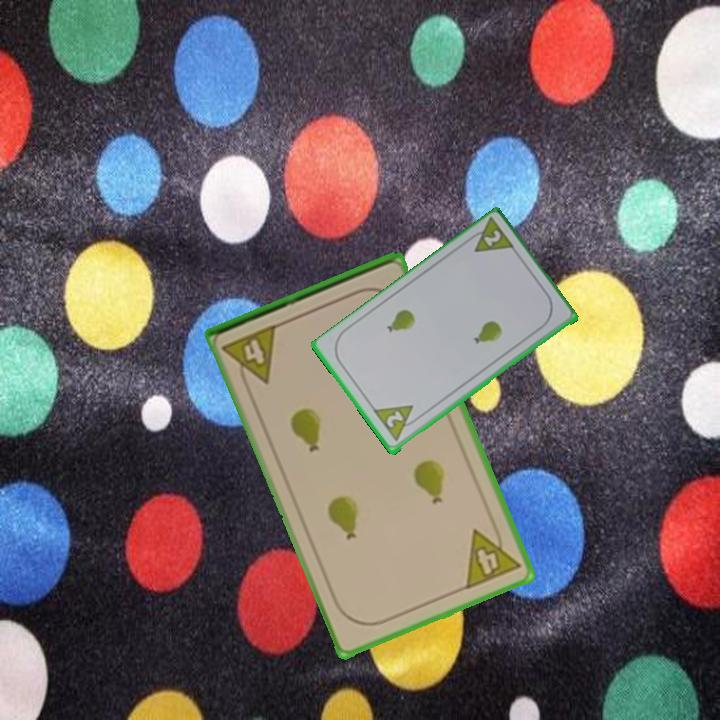2p: (371, 401, 424, 446), (462, 215, 518, 256)
4p: (461, 518, 524, 593), (219, 320, 281, 393)
